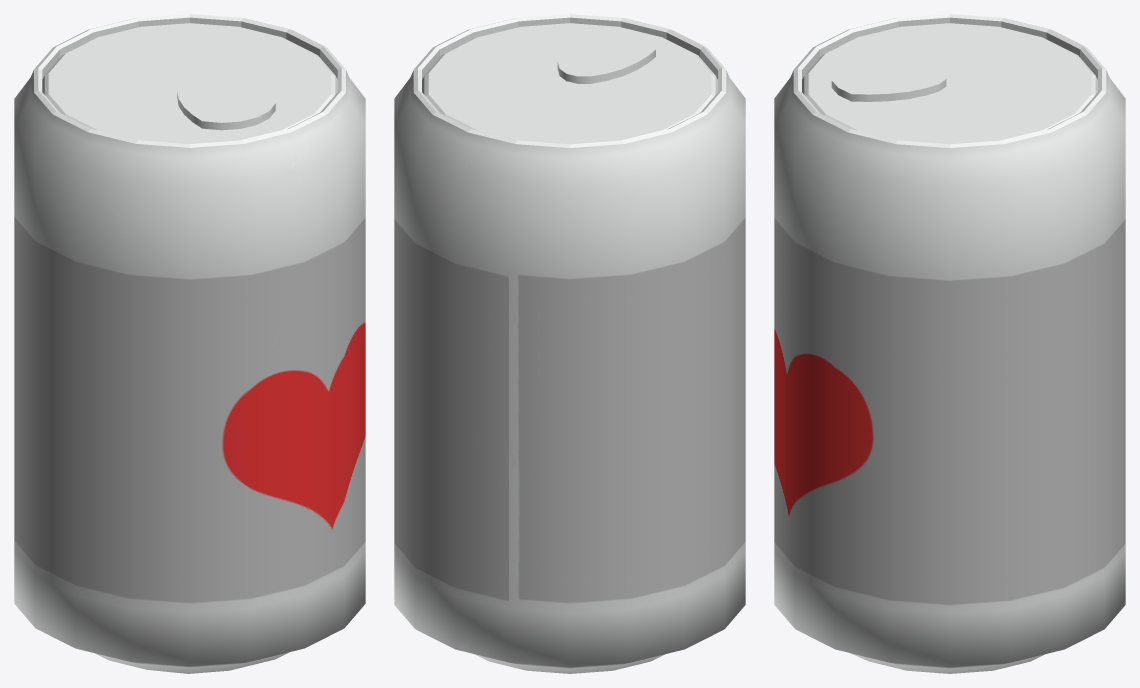
The model's file is can.fbx.
The picture shows the model from 3 angles, left to right: view 1: azimuth 30°, elevation 25°; view 2: azimuth 150°, elevation 25°; view 3: azimuth 270°, elevation 25°; orthographic projection.
Visible parts, largest first — view 1: Cylinder001; view 2: Cylinder001; view 3: Cylinder001.
Boxes of the visible parts, <box> form: Cylinder001: <box>14,14,365,673</box>; Cylinder001: <box>394,14,745,673</box>; Cylinder001: <box>774,14,1125,673</box>.
Size of the model in its own units: 92.14 by 155 by 90.74.
